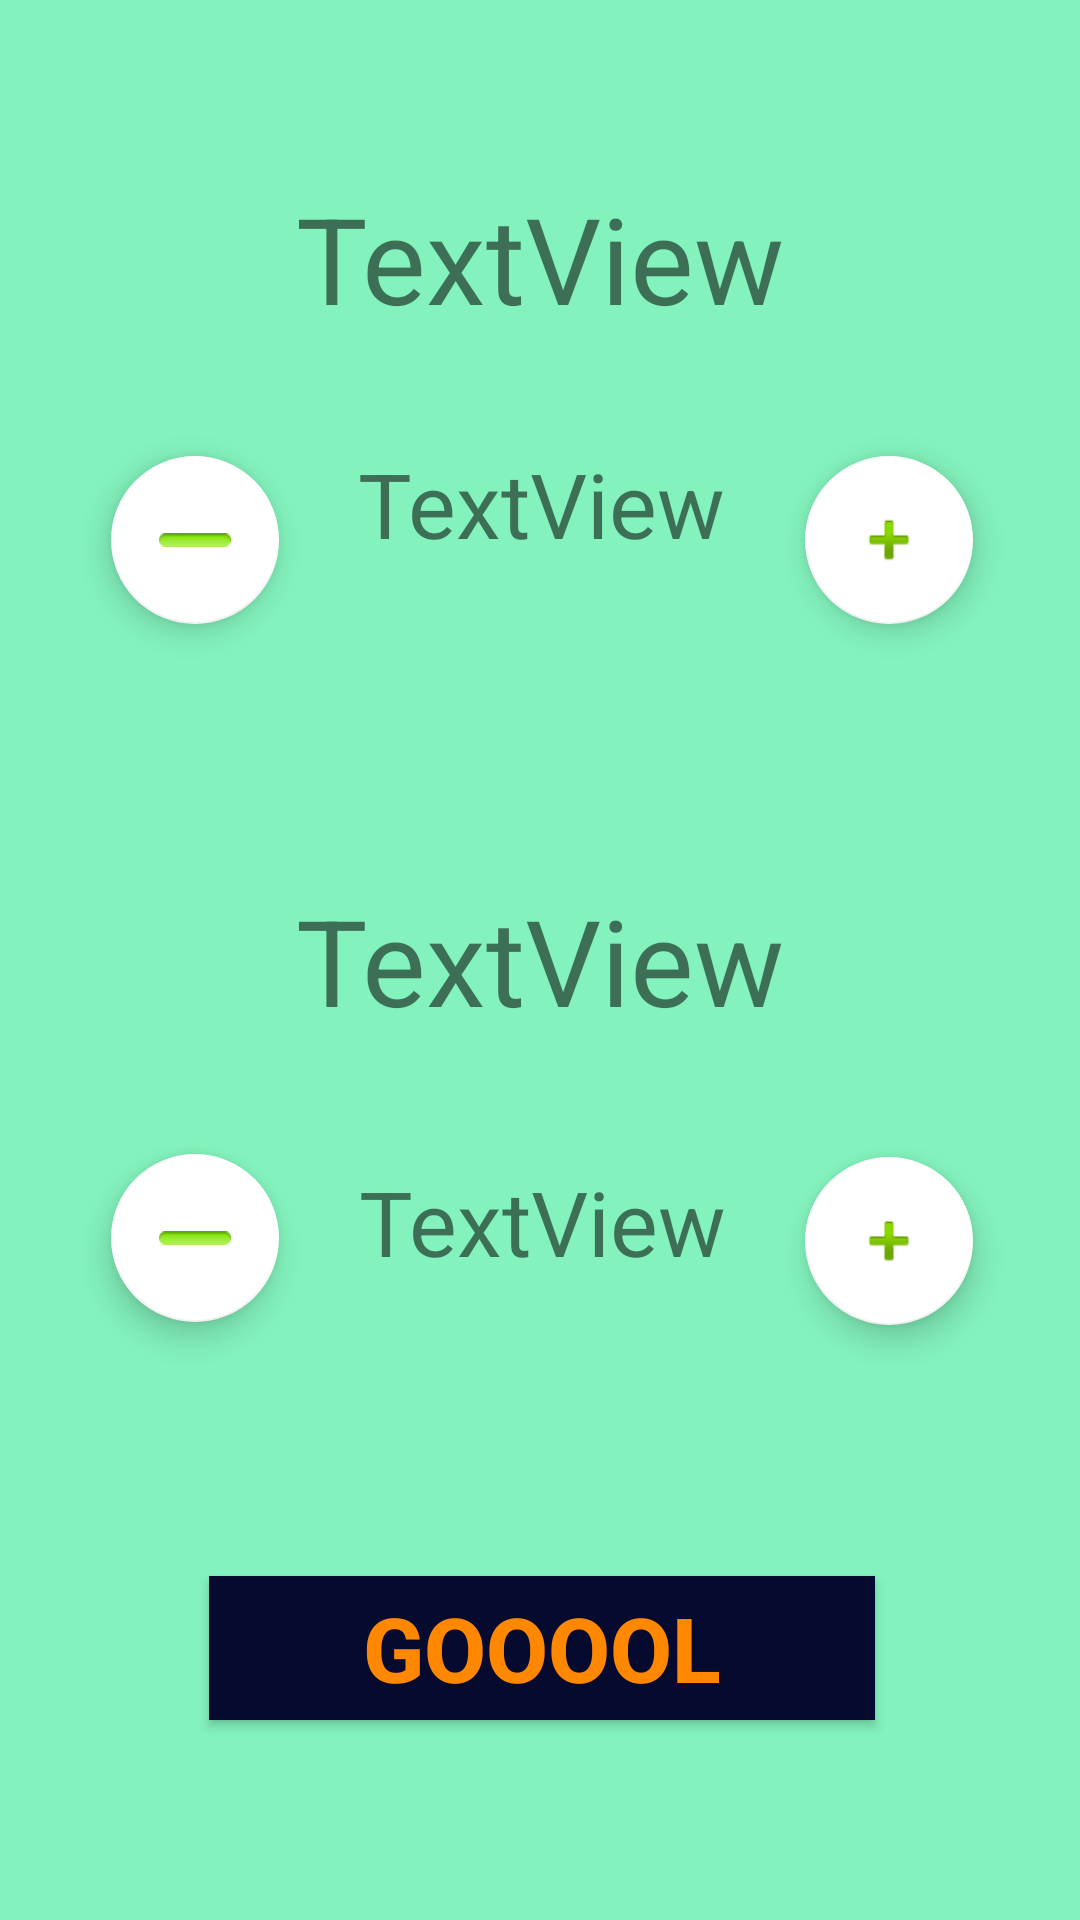

Locate icon controls on the screen. Image size 1080×1920, boxes as (x1, y1, x2, y2).
add: (805, 456, 973, 624), (805, 1157, 973, 1325)
